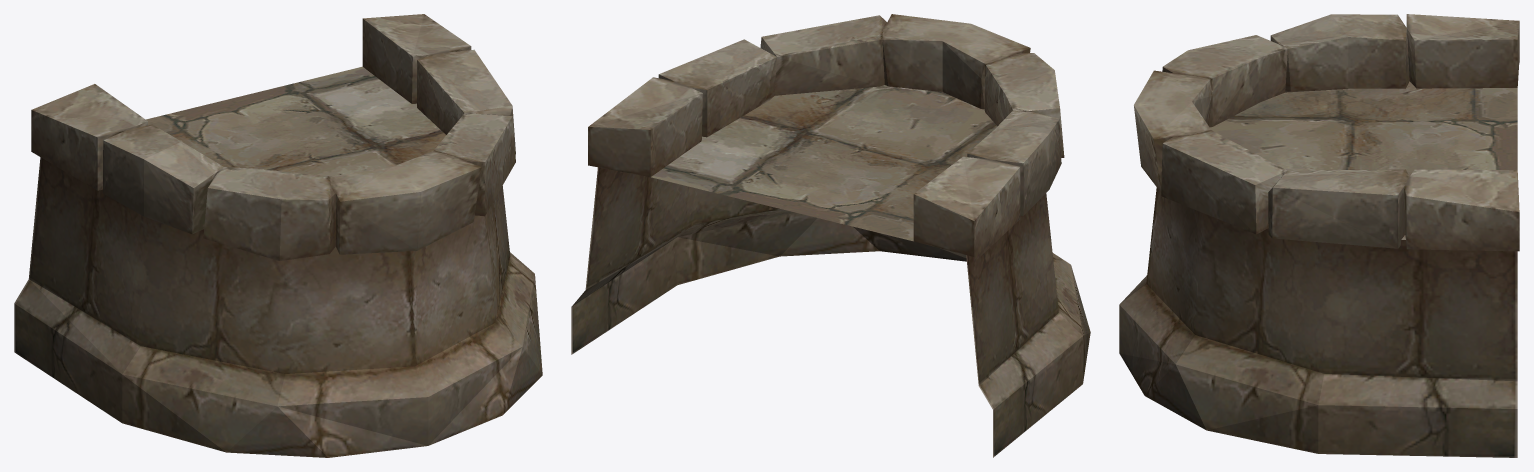
File: nashgar_trim_base2_ruins_b.FBX
3 views of the same model, side by side, from view 1: azimuth 30°, elevation 25°; view 2: azimuth 150°, elevation 25°; view 3: azimuth 270°, elevation 25° (orthographic).
Parts seen in each view (by area): view 1: nashgar_trim_base2_ruins_b; view 2: nashgar_trim_base2_ruins_b; view 3: nashgar_trim_base2_ruins_b.
Boxes of the visible parts, x1,y1,x2,y2 form: nashgar_trim_base2_ruins_b: (14,14,542,457); nashgar_trim_base2_ruins_b: (571,14,1090,457); nashgar_trim_base2_ruins_b: (1119,14,1519,457).
Size of the model in its own units: 4.59 by 2.58 by 3.71.
